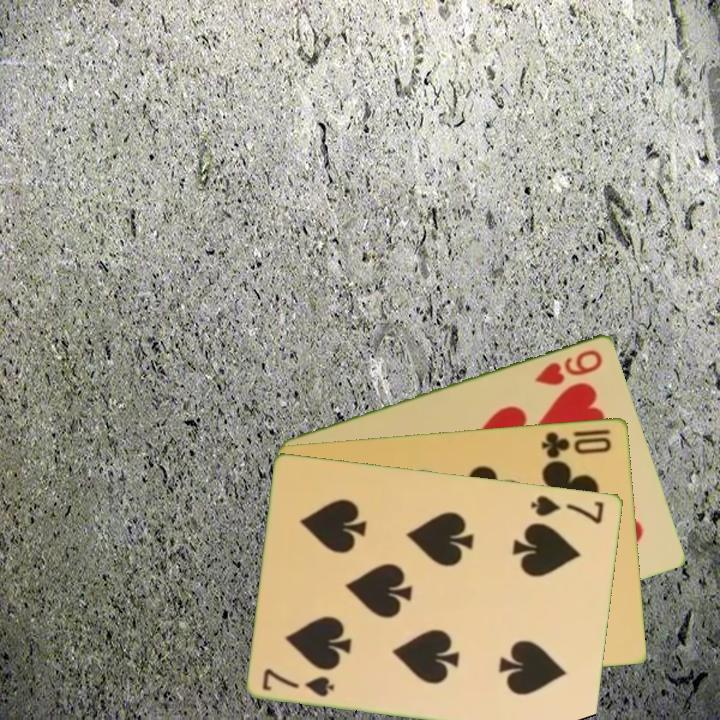10c: (538, 425, 614, 460)
7s: (527, 491, 608, 527), (259, 664, 338, 699)
9h: (531, 345, 606, 388)
